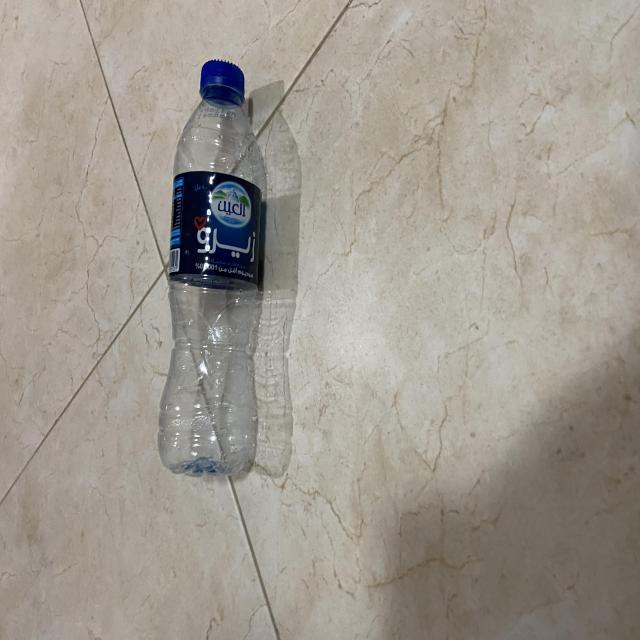bottle: (154, 58, 260, 487)
